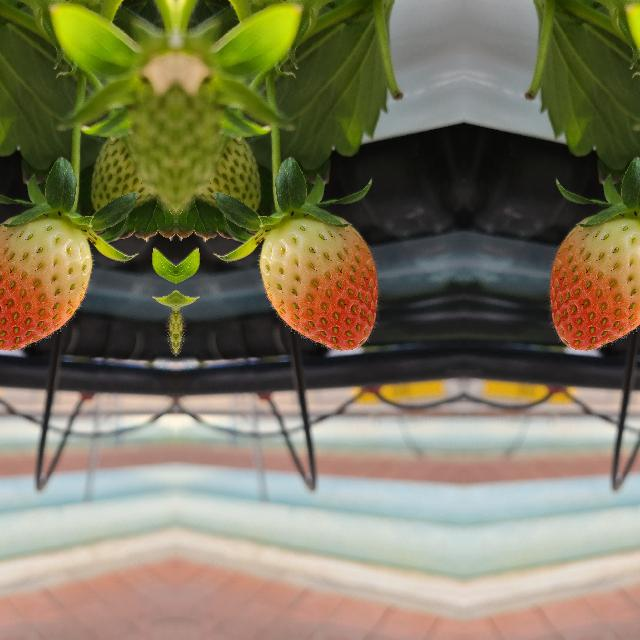Health_75: (258, 216, 376, 350), (0, 216, 91, 349), (550, 216, 640, 349)
